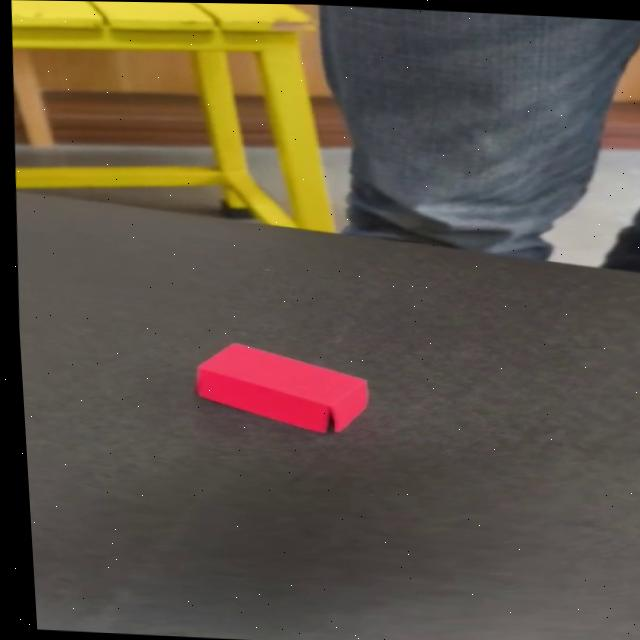red block: (191, 339, 376, 436)
